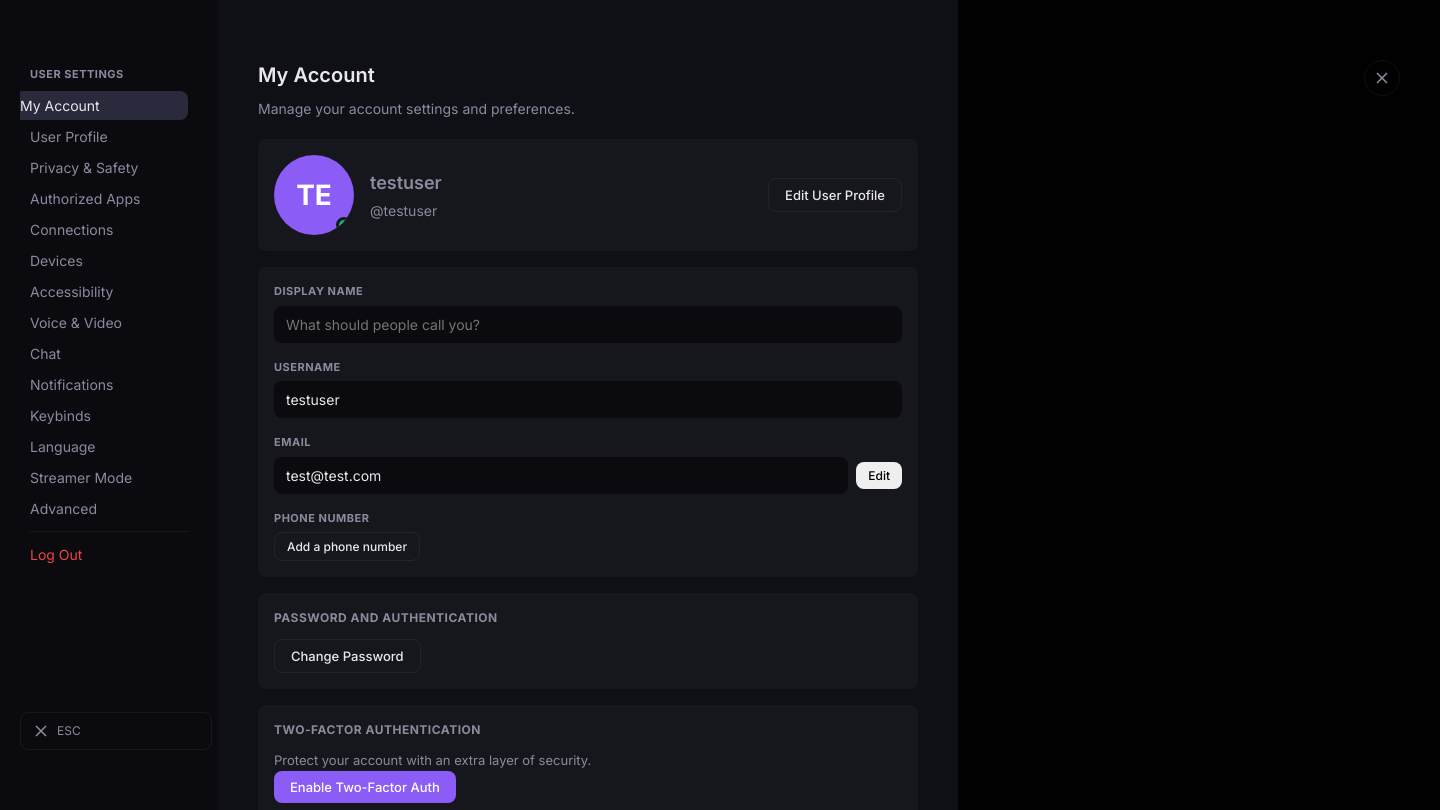
Test: Settings › renders Voice & Video section
This screenshot has width=1440, height=810.
Click the button "Voice & Video" at {"x": 109, "y": 322}, box x1=20 y1=308 x2=198 y2=336
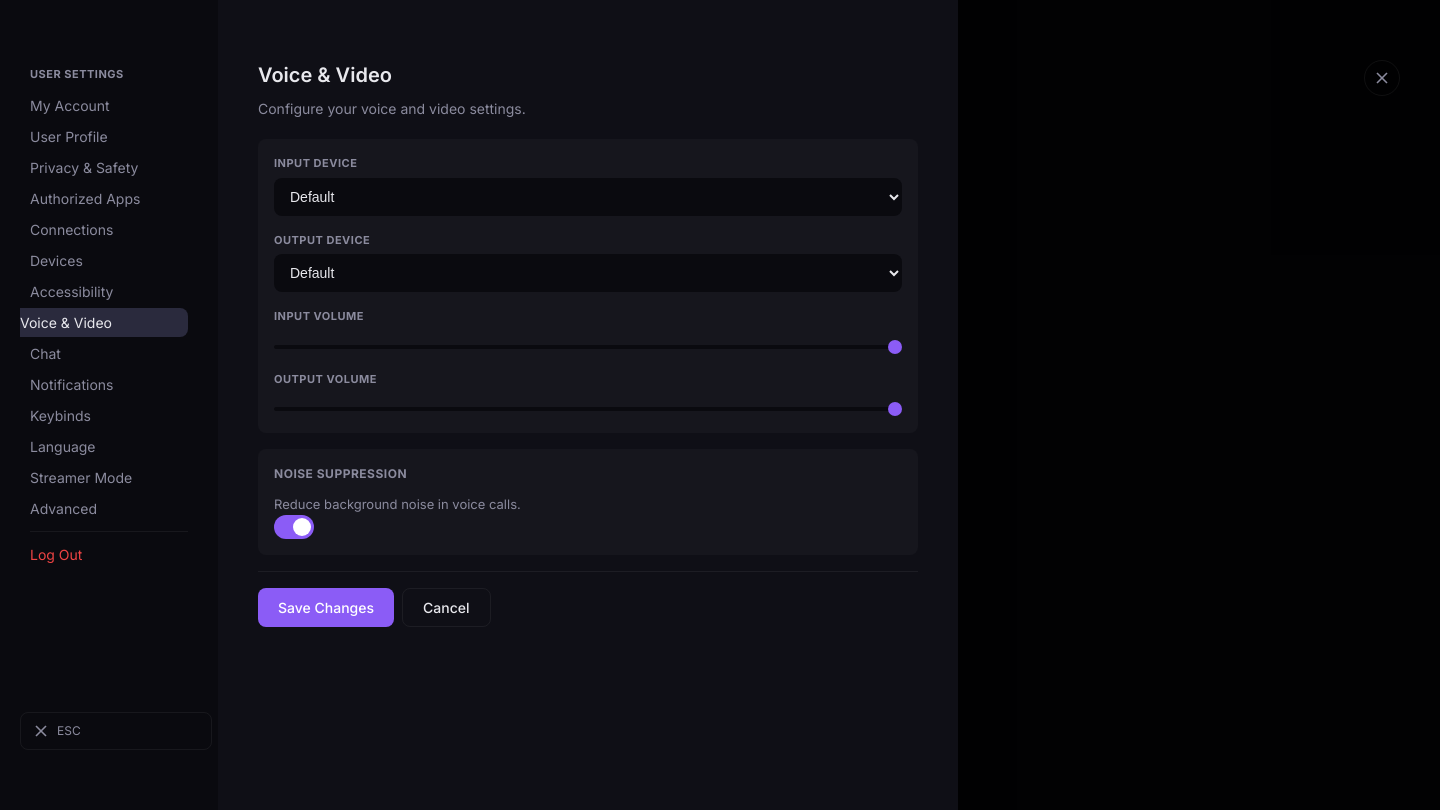
Expected: the text "Input Device" is shown, x1=274 y1=156 x2=357 y2=170
Expected: the text "Output Device" is shown, x1=274 y1=232 x2=370 y2=246
